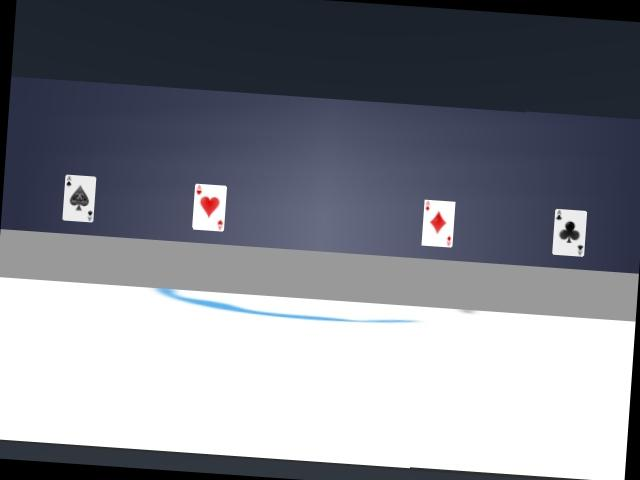club: (552, 209, 586, 256)
diamond: (421, 200, 455, 247)
heart: (192, 184, 226, 231)
spade: (62, 175, 95, 222)
